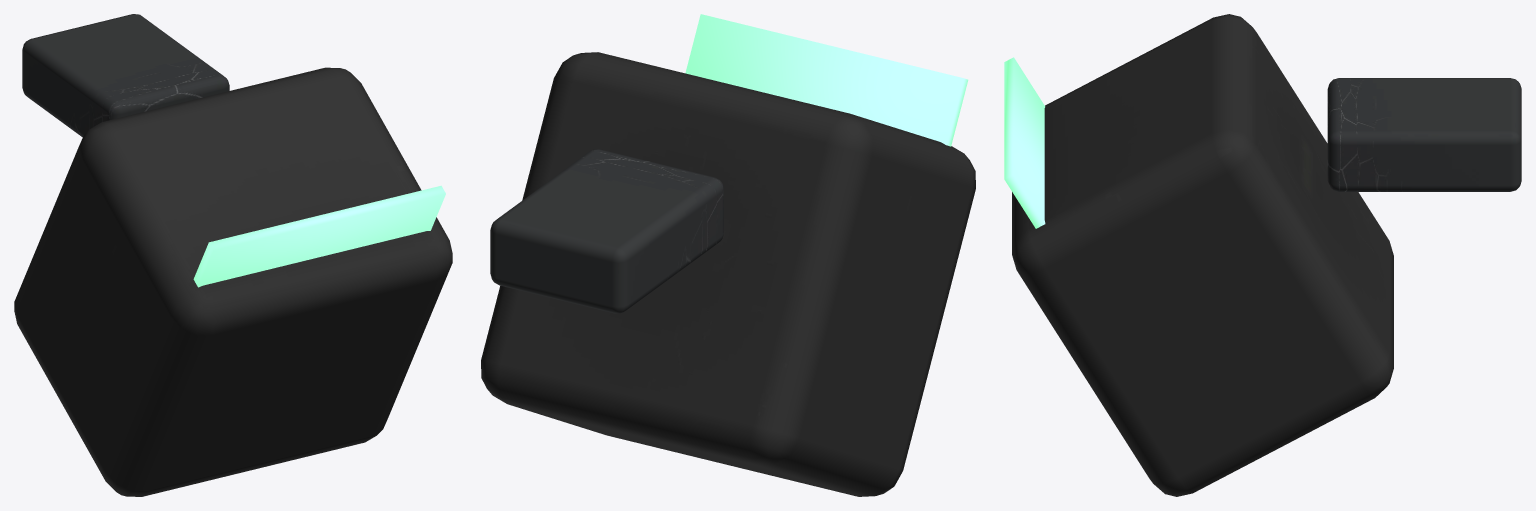
The model's file is pulse_tracker.gltf.
3 views of the same model, side by side, from view 1: azimuth 30°, elevation 25°; view 2: azimuth 150°, elevation 25°; view 3: azimuth 270°, elevation 25° (orthographic). The views are drawn at different scales.
Visible parts, largest first — view 1: Frame, Screen; view 2: Frame, Screen; view 3: Frame, Screen.
Part boxes in pixels (<box>): Frame: <box>14,14,452,496</box>; Screen: <box>193,185,445,287</box>; Frame: <box>481,52,975,496</box>; Screen: <box>685,14,968,146</box>; Frame: <box>1012,14,1521,496</box>; Screen: <box>1004,57,1045,228</box>.
Bounding box in the file's own units: 0.06 × 0.0726 × 0.0934.
Materials: 3 (2 with a texture image).
